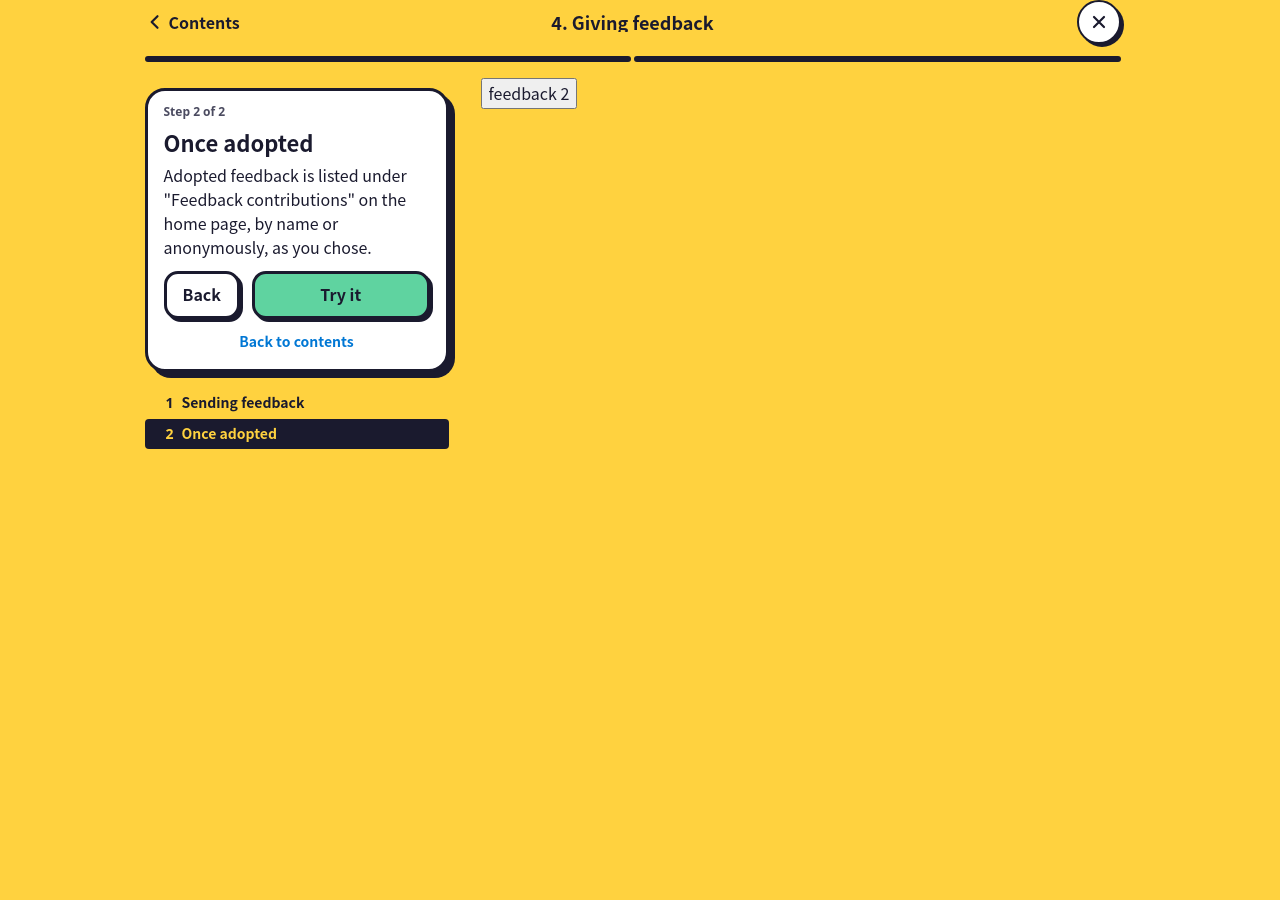
it: a chapter › on feedback ends in the feedback panel itself
The width and height of the screenshot is (1280, 900).
Step 1. Click the button "Try it" → coordinates (341, 295), box [252, 271, 430, 319]
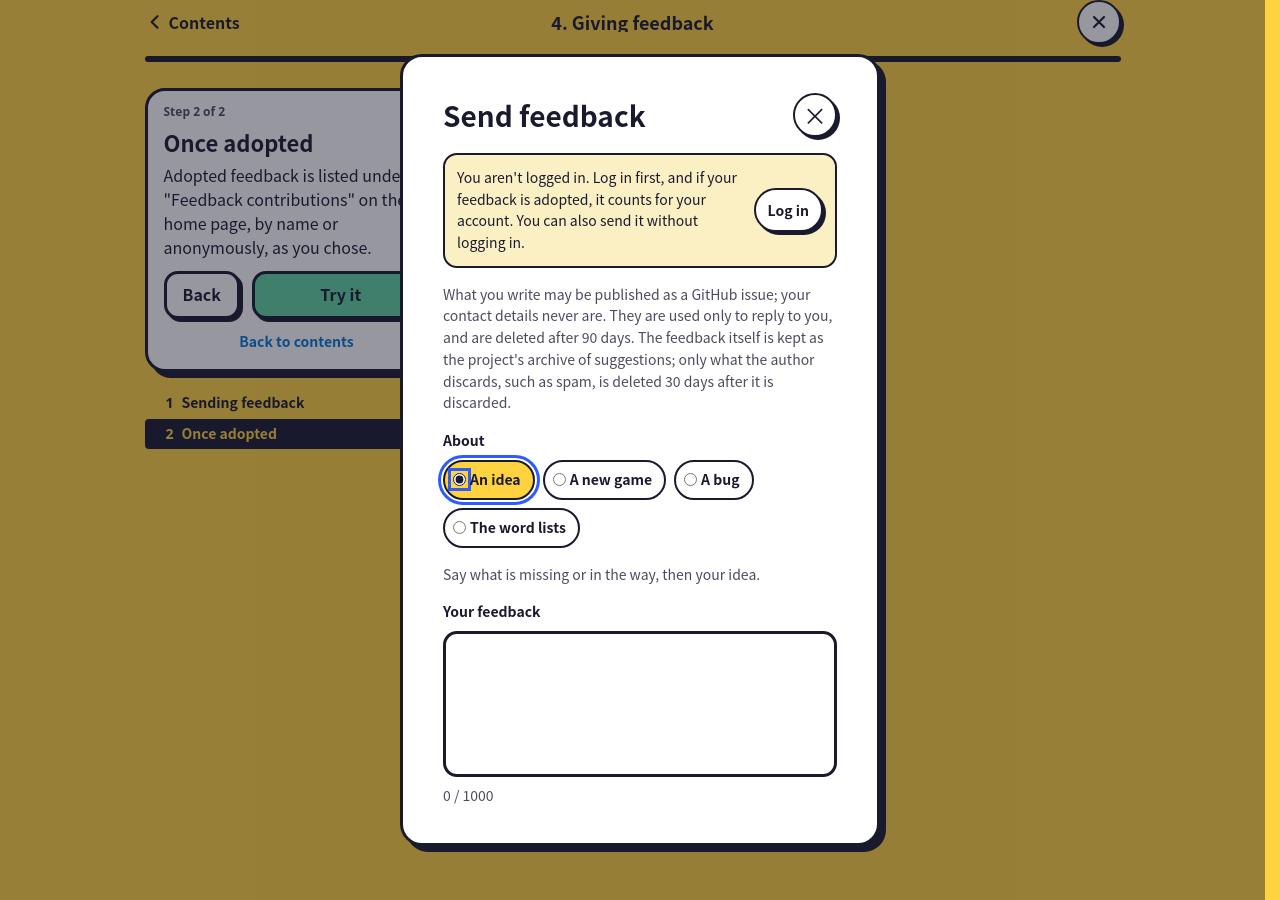
Expected: the heading "Send feedback" is shown, [443, 95, 646, 135]
